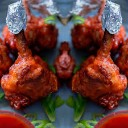chicken_lollipop: (75, 2, 127, 106), (2, 25, 61, 102), (20, 1, 61, 50), (57, 40, 76, 81)
